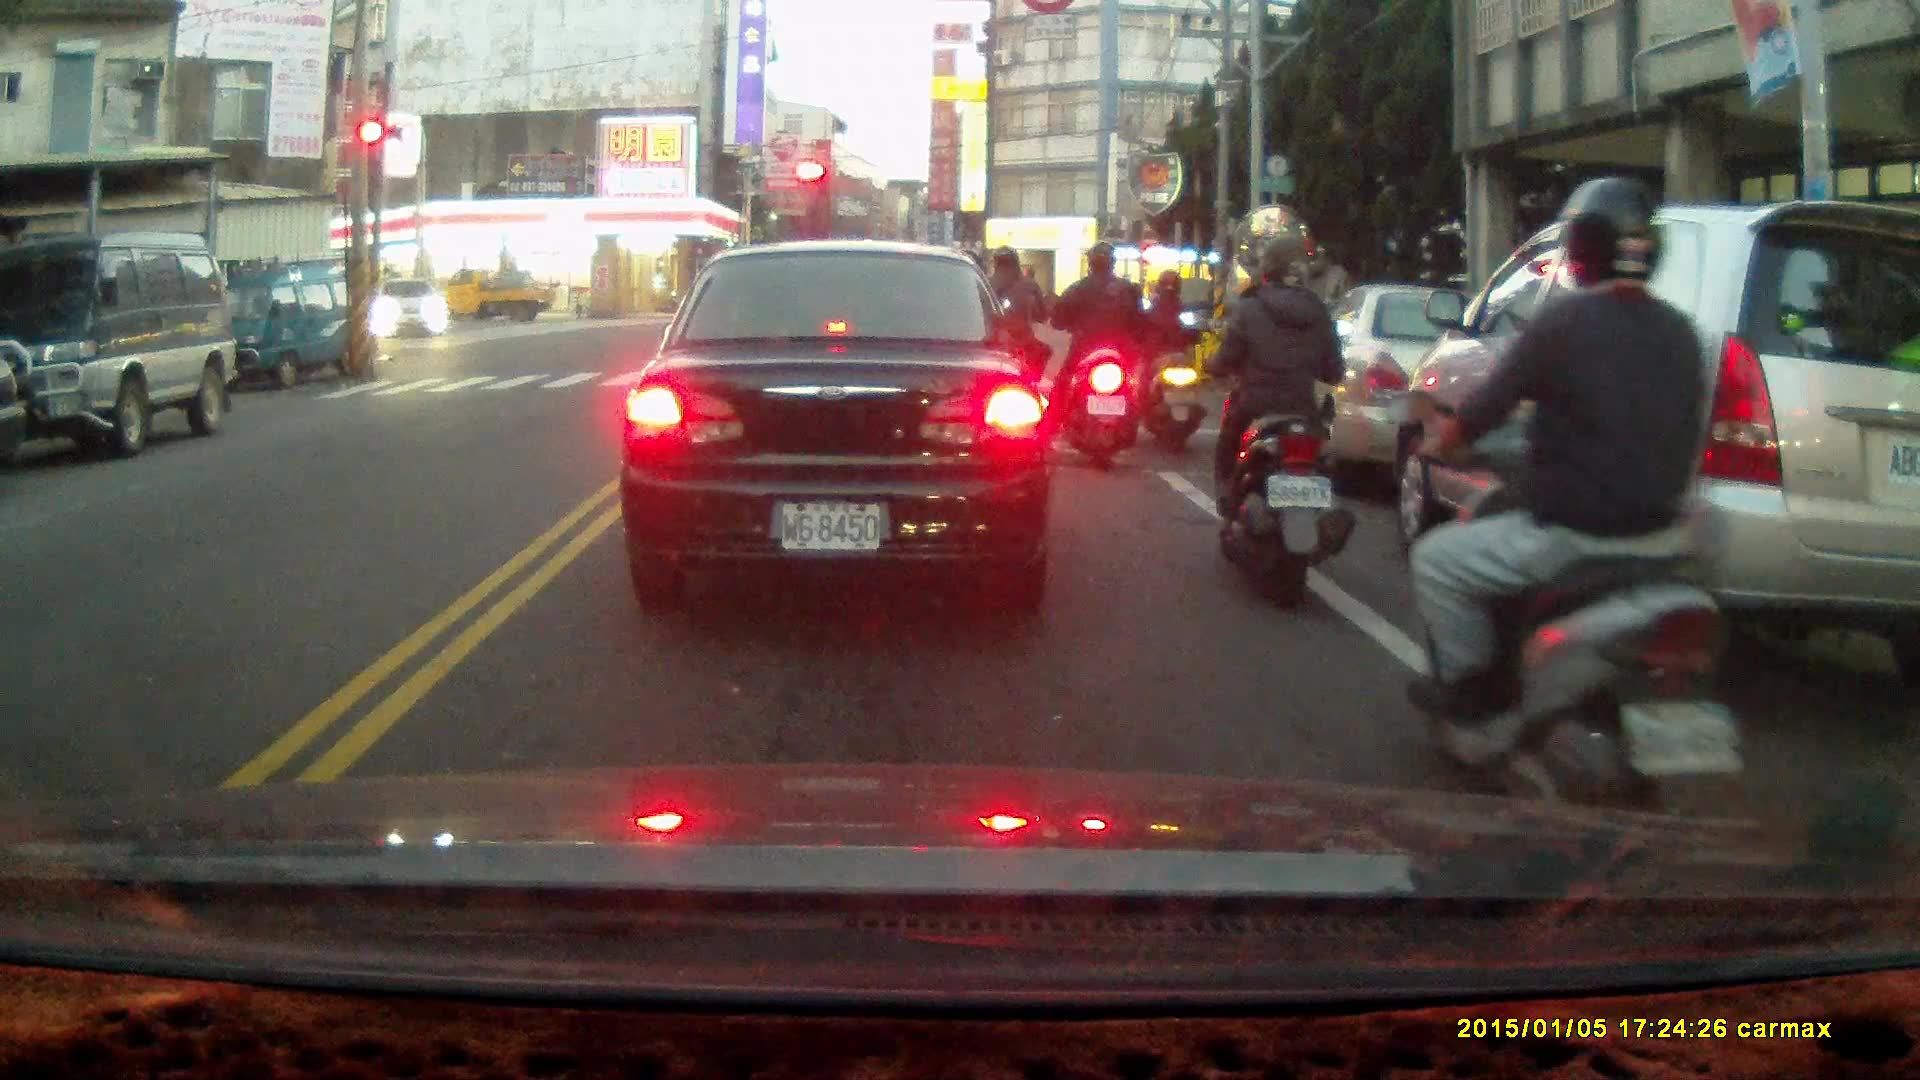rider: (1382, 176, 1756, 884), (1179, 230, 1350, 611), (1048, 243, 1141, 469), (963, 244, 1051, 447), (1134, 269, 1204, 450)
vehicle: (1381, 195, 1920, 685), (617, 243, 1061, 606), (1264, 282, 1595, 492), (1, 234, 239, 458), (194, 255, 381, 395), (429, 265, 555, 327), (372, 277, 451, 343)
